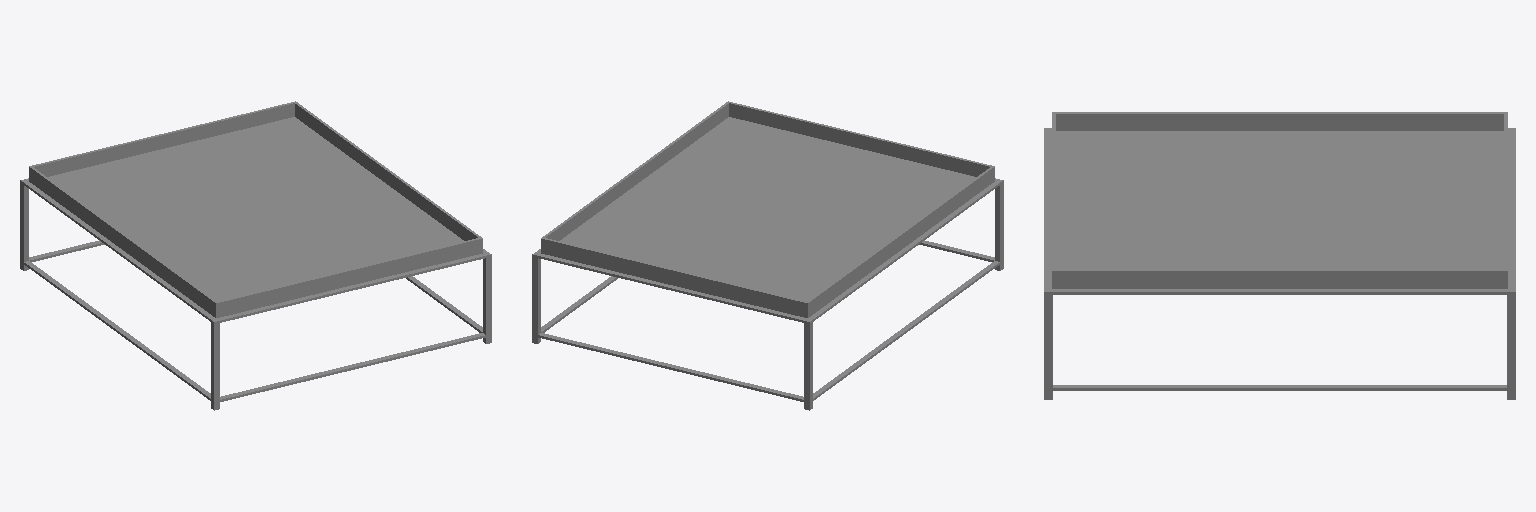
URDF robot description (model.urdf):
<?xml version="0.0" ?>
<robot name="model.urdf">
  <link name="baseLink">
    <contact>
      <friction_anchor/>
      <lateral_friction value="0.3"/>
      <rolling_friction value="0.0"/>
      <contact_cfm value="0.0"/>
      <contact_erp value="1.0"/>
    </contact>
    <inertial>
       <origin rpy="0 0 0" xyz="0 0 0"/>
       <mass value="0.1"/>
       <inertia ixx="8e-05" ixy="0" ixz="0" iyy="0.0002" iyz="0" izz="0.0002"/>
    </inertial>
    <visual>
          <origin xyz="0 0 0" rpy="0 0 0"/>
      <geometry>
        <mesh filename="Mesa.stl" scale="0.7 0.7 0.25"/>
      </geometry>
      <material name="Black">
        <color rgba="0.6 0.6 0.6 1"/>
      </material>
    </visual>
    <collision>
          <origin xyz="0 0 0" rpy="0 0 0"/>
      <geometry>
        <mesh filename="Mesa.stl"  scale="0.7 0.7 0.25"/>
      </geometry>
    </collision>
  </link>
</robot>

--- Facts derived from the render (not from the file) ---
Views: 3 orthographic renders of the robot side by side, from view 1: azimuth 30°, elevation 25°; view 2: azimuth 150°, elevation 25°; view 3: azimuth 270°, elevation 25°.
Model model.urdf with 1 links and 0 joints (none), rooted at baseLink, posed every joint at zero.
Links seen in each view (by area): view 1: baseLink; view 2: baseLink; view 3: baseLink.
Link boxes in pixels (x1,y1,x2,y2): baseLink: [20, 101, 491, 410]; baseLink: [532, 101, 1003, 410]; baseLink: [1044, 112, 1515, 399].
Size in the robot's own frame: 0.2659 by 0.322 by 0.095 metres.
1 mesh visuals loaded from 1 distinct referenced files (1 binary STL).